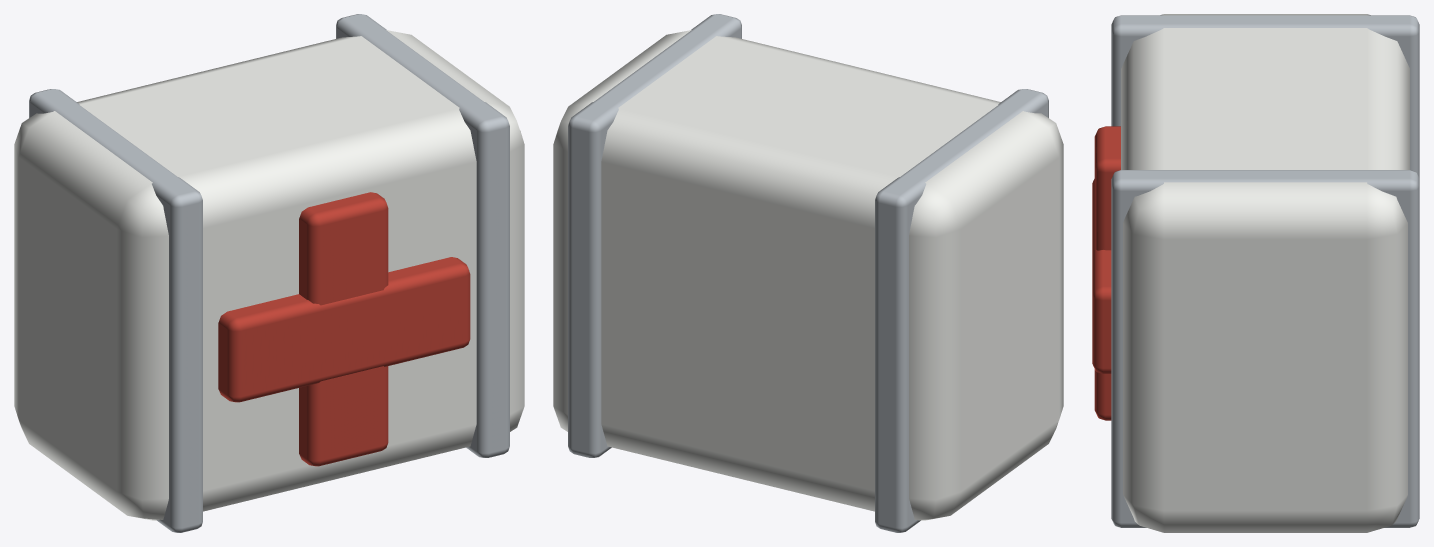
The model's file is arena-shooter-map-kit-health-small-34095507__23112.glb.
3 renders of one model, left to right at view 1: azimuth 30°, elevation 25°; view 2: azimuth 150°, elevation 25°; view 3: azimuth 270°, elevation 25°, orthographic. The views are drawn at different scales.
Parts seen in each view (by area): view 1: health-small; view 2: health-small; view 3: health-small.
Boxes of the visible parts, bbox=[...] form: health-small: bbox=[14, 14, 524, 532]; health-small: bbox=[553, 14, 1063, 532]; health-small: bbox=[1092, 14, 1419, 532].
Bounding box in the file's own units: 0.28 × 0.2252 × 0.1903.
